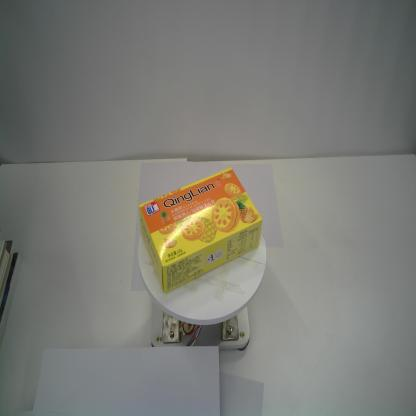Dessert: (137, 166, 263, 296)
